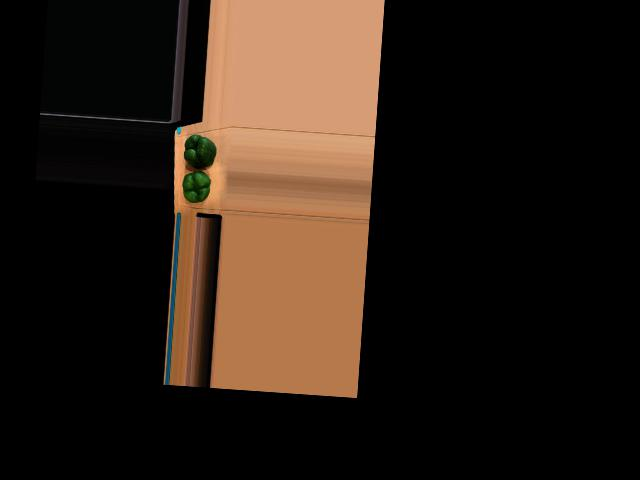bell_pepper: (180, 169, 215, 203)
